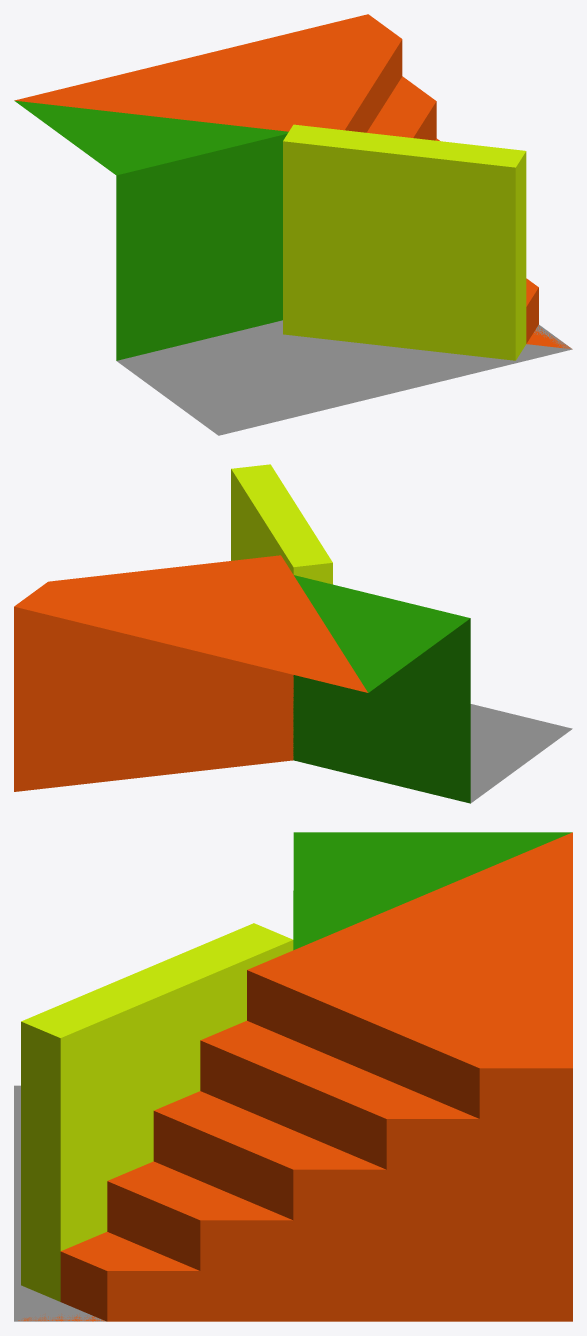
The picture shows the model from 3 angles, top to bottom: view 1: azimuth 30°, elevation 25°; view 2: azimuth 150°, elevation 25°; view 3: azimuth 270°, elevation 25°; orthographic projection. The views are drawn at different scales.
Parts seen in each view (by area): view 1: T_3_c_0; view 2: T_3_c_0; view 3: T_3_c_0.
Part boxes in pixels (x1=…): T_3_c_0: x1=14, y1=14, x2=572, y2=435; T_3_c_0: x1=14, y1=464, x2=572, y2=803; T_3_c_0: x1=14, y1=832, x2=572, y2=1321.
Size of the model in its own units: 99.79 by 51.98 by 99.81.
